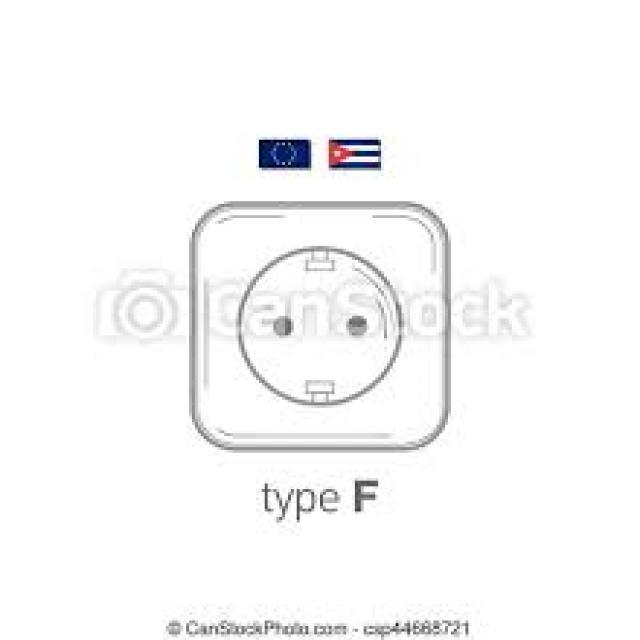typeb: (185, 191, 455, 452)
